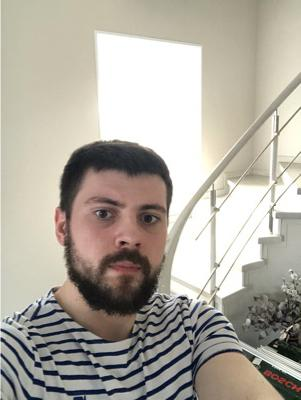without_mask: (72, 191, 167, 316)
